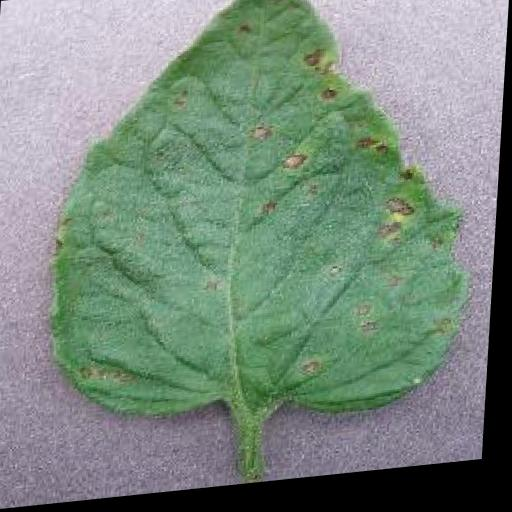Septoria: (50, 0, 488, 446)
